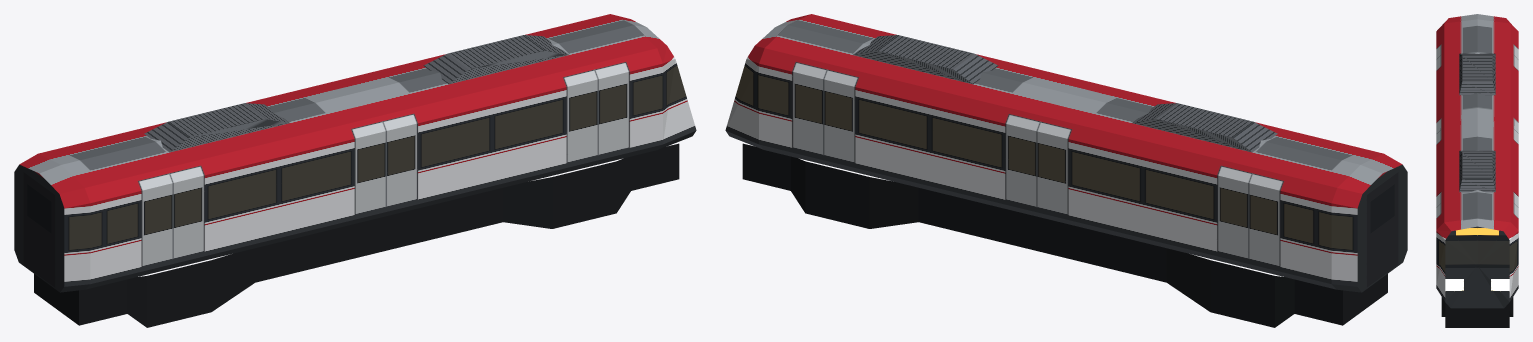
The model's file is val_52m__cab.glb.
3 views of the same model, side by side, from view 1: azimuth 30°, elevation 25°; view 2: azimuth 150°, elevation 25°; view 3: azimuth 270°, elevation 25° (orthographic). The views are drawn at different scales.
Visible parts, largest first — view 1: val_52m__cab; view 2: val_52m__cab; view 3: val_52m__cab.
Boxes of the visible parts, x1,y1,x2,y2 form: val_52m__cab: [14, 14, 696, 327]; val_52m__cab: [725, 14, 1407, 327]; val_52m__cab: [1436, 14, 1518, 327].
Bounding box in the file's own units: 13 × 3.25 × 2.06.
Materials: 1 (1 with a texture image).
